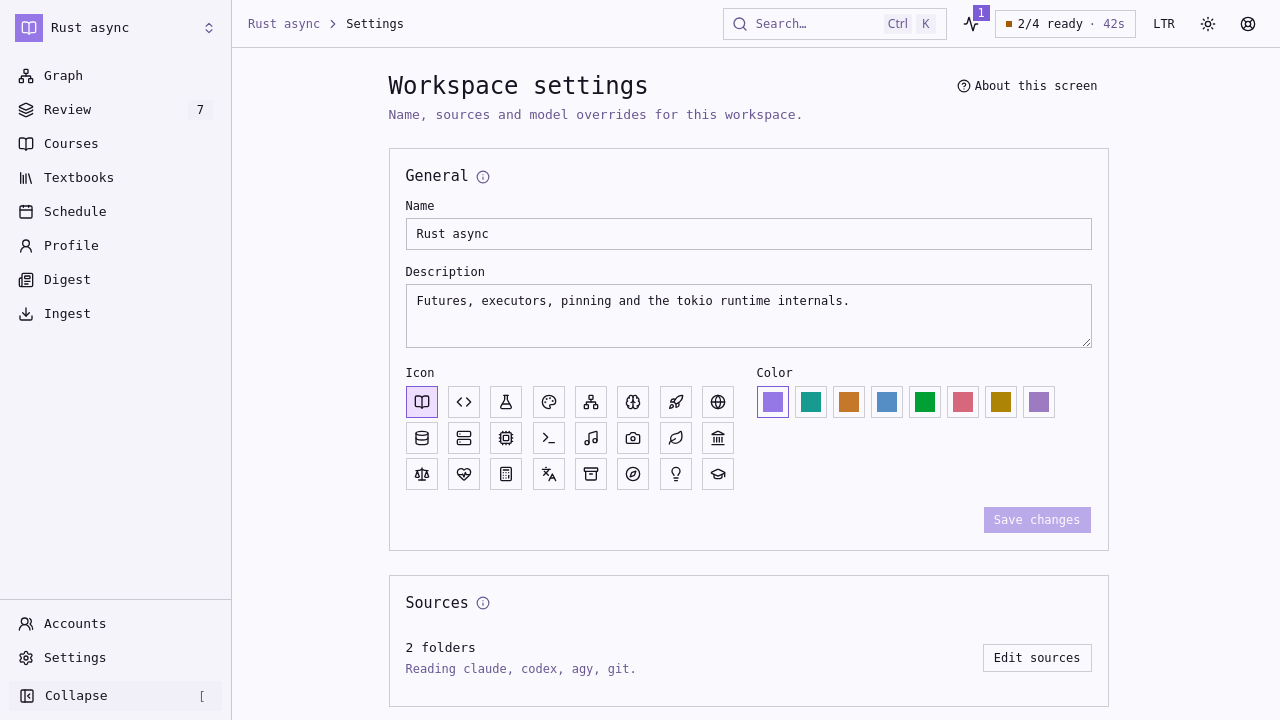
Test: About this screen › /w/ws_rustasync/settings lists its parts
Click the button with test id "screen-guide-open". click: (1029, 86)
box: [950, 72, 1108, 100]
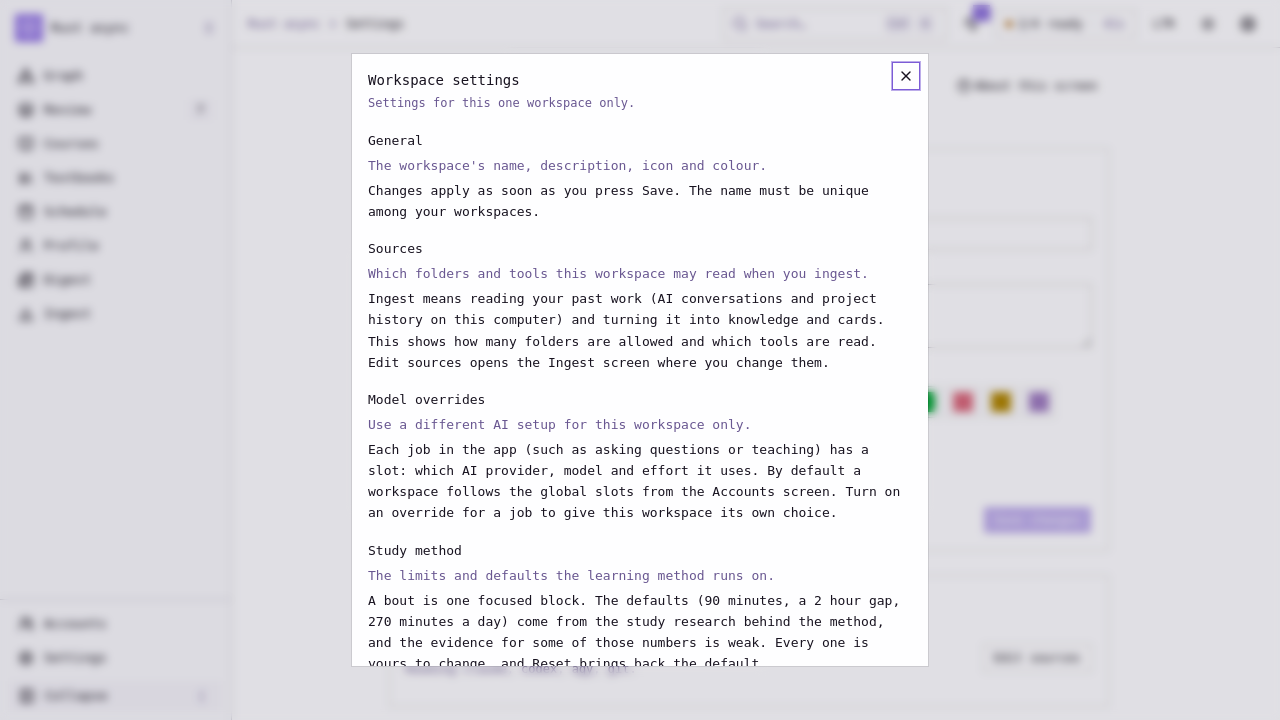
Check: the heading "Workspace settings" is shown, box [368, 72, 520, 88]
Check: the dialog with test id "screen-guide" shows "Model overrides", box [368, 392, 485, 407]
